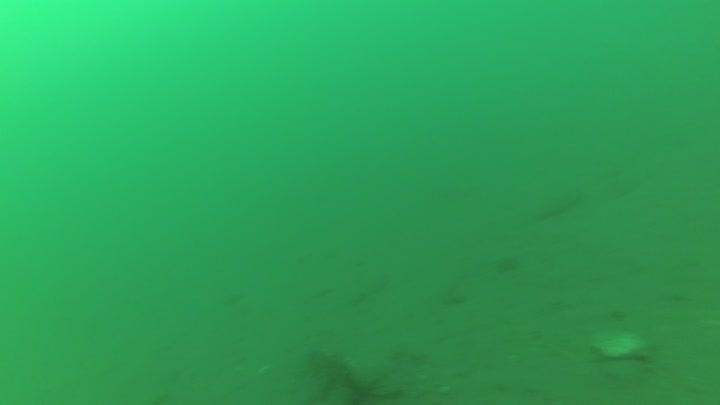scallop: (587, 324, 652, 365)
